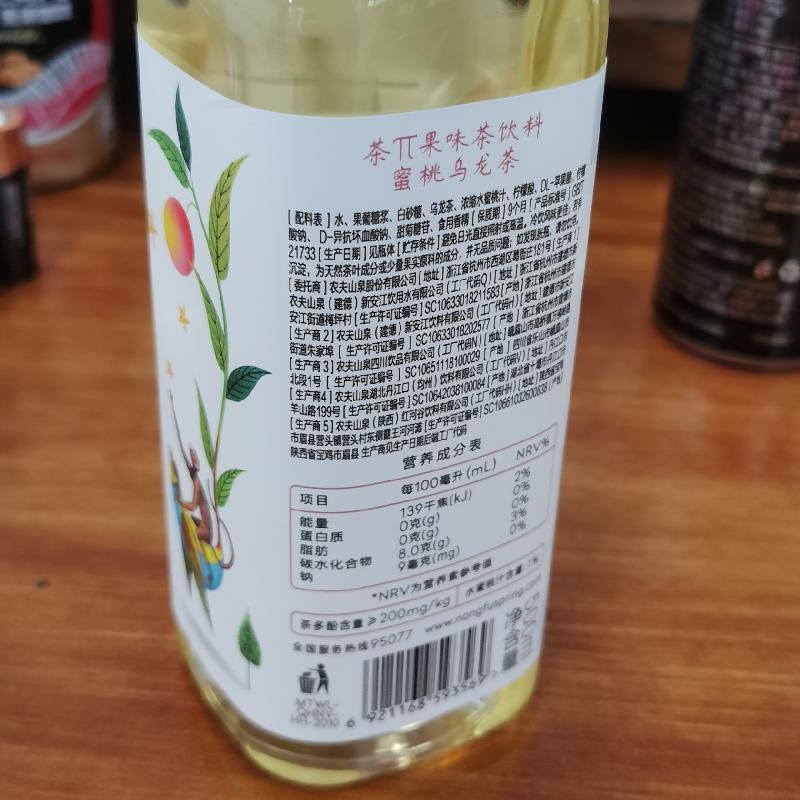bottles: (120, 0, 608, 786)
